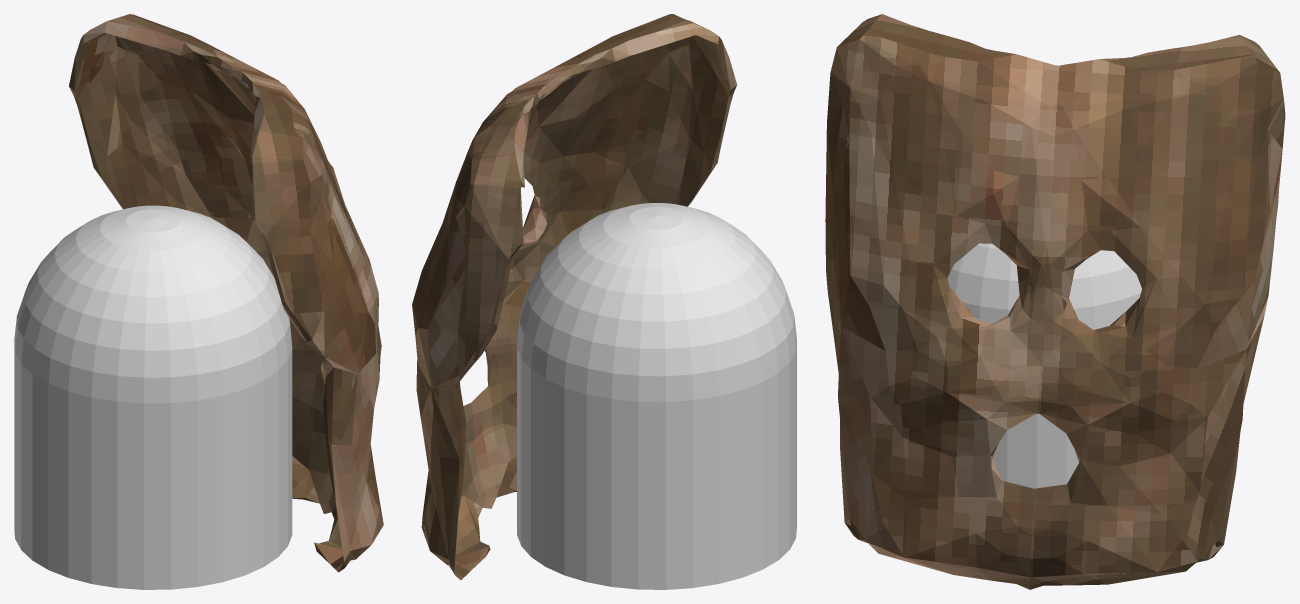
Rendered from WoodMask.glb.
3 renders of one model, left to right at view 1: azimuth 30°, elevation 25°; view 2: azimuth 150°, elevation 25°; view 3: azimuth 270°, elevation 25°, orthographic. The views are drawn at different scales.
Visible parts, largest first — view 1: Sphere, Mask; view 2: Sphere, Mask; view 3: Mask, Sphere.
Boxes of the visible parts, left/top/right/bottom form: Sphere: left=14, top=205, right=292, bottom=589; Mask: left=69, top=14, right=383, bottom=572; Sphere: left=517, top=203, right=796, bottom=589; Mask: left=412, top=14, right=737, bottom=579; Mask: left=825, top=14, right=1285, bottom=589; Sphere: left=947, top=243, right=1141, bottom=488.
Bounding box in the file's own units: 2.65 × 3.71 × 3.04.
Materials: 2 (1 with a texture image).
